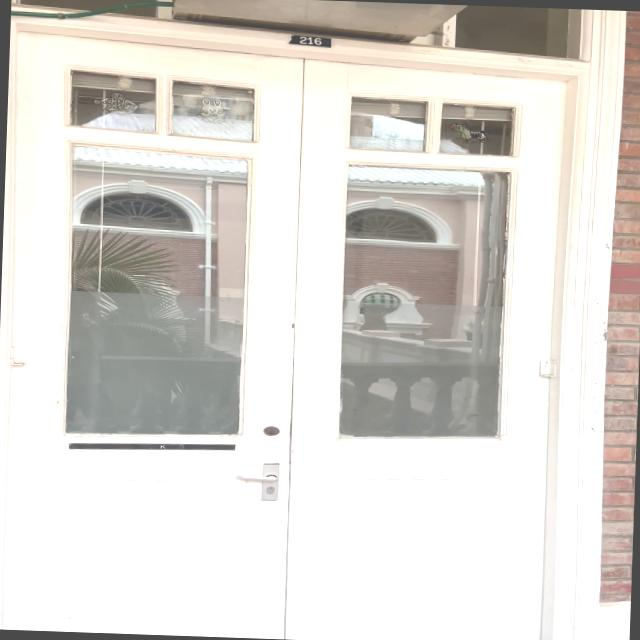room216: (281, 30, 337, 48)
